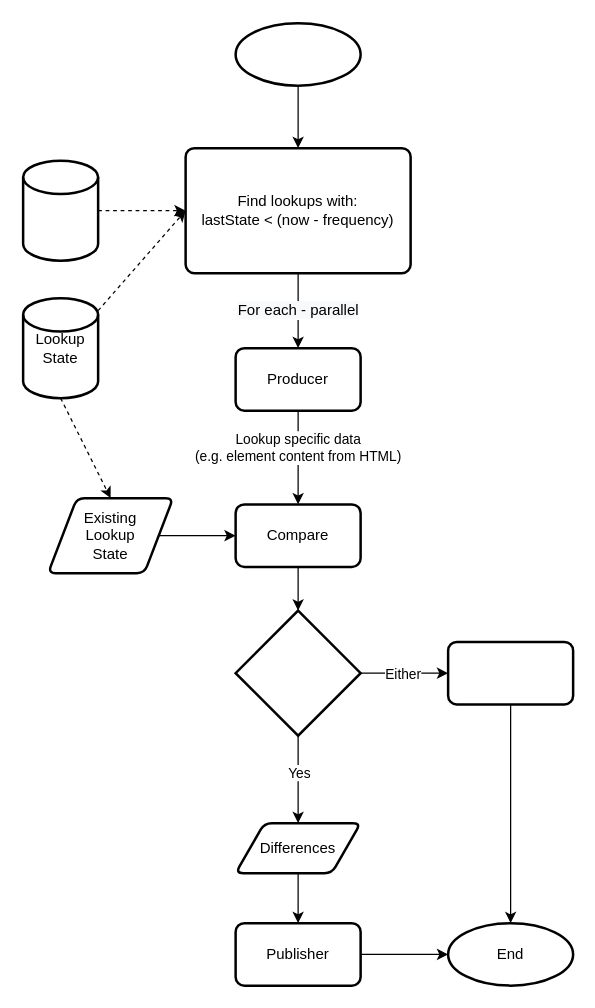
Image size: 595x1008. Some labels were removed from this diagram. Each missing label, with the centre of its shape:
"1 min loop" goes at (x=297, y=53).
"Lookup" goes at (x=60, y=210).
"State is different" goes at (x=297, y=672).
"Store state" goes at (x=510, y=672).
